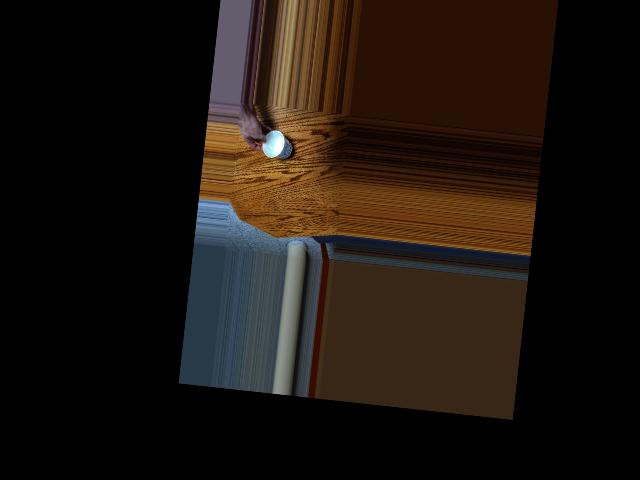cotage: (259, 130, 292, 158)
